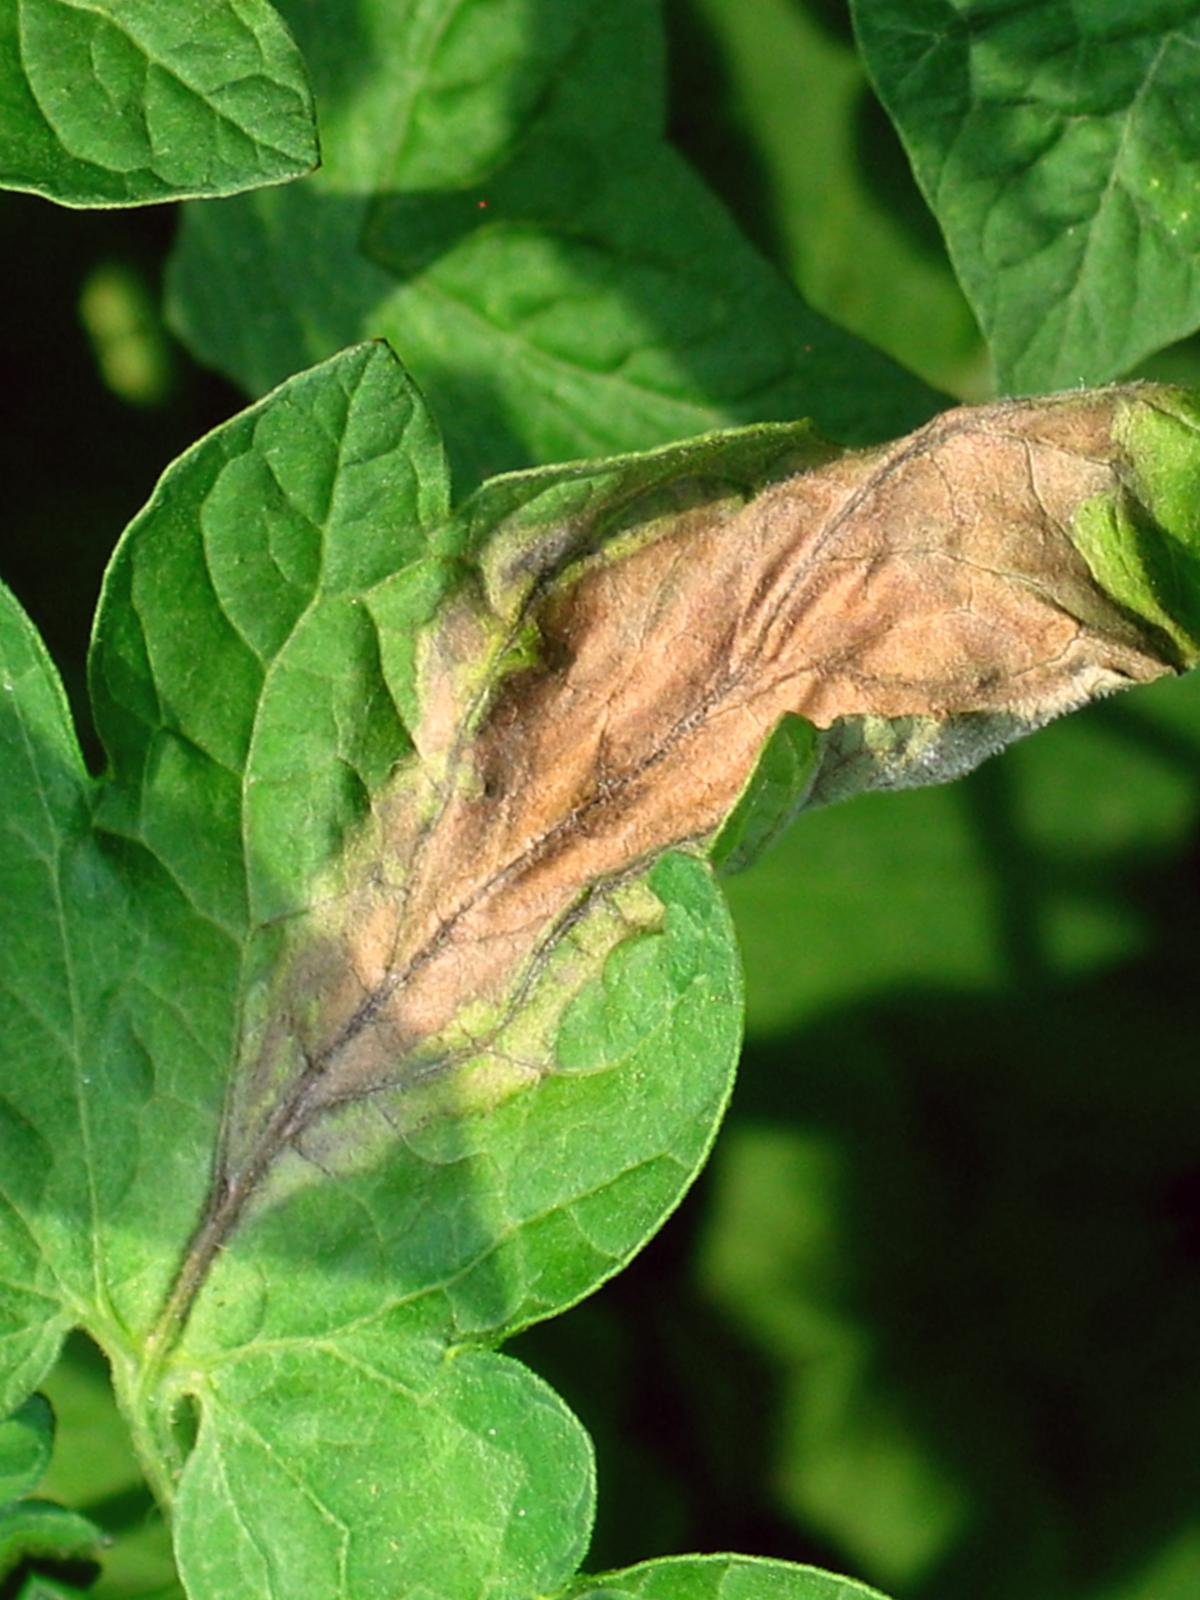Tomato leaf late blight: (0, 33, 1200, 1600)
